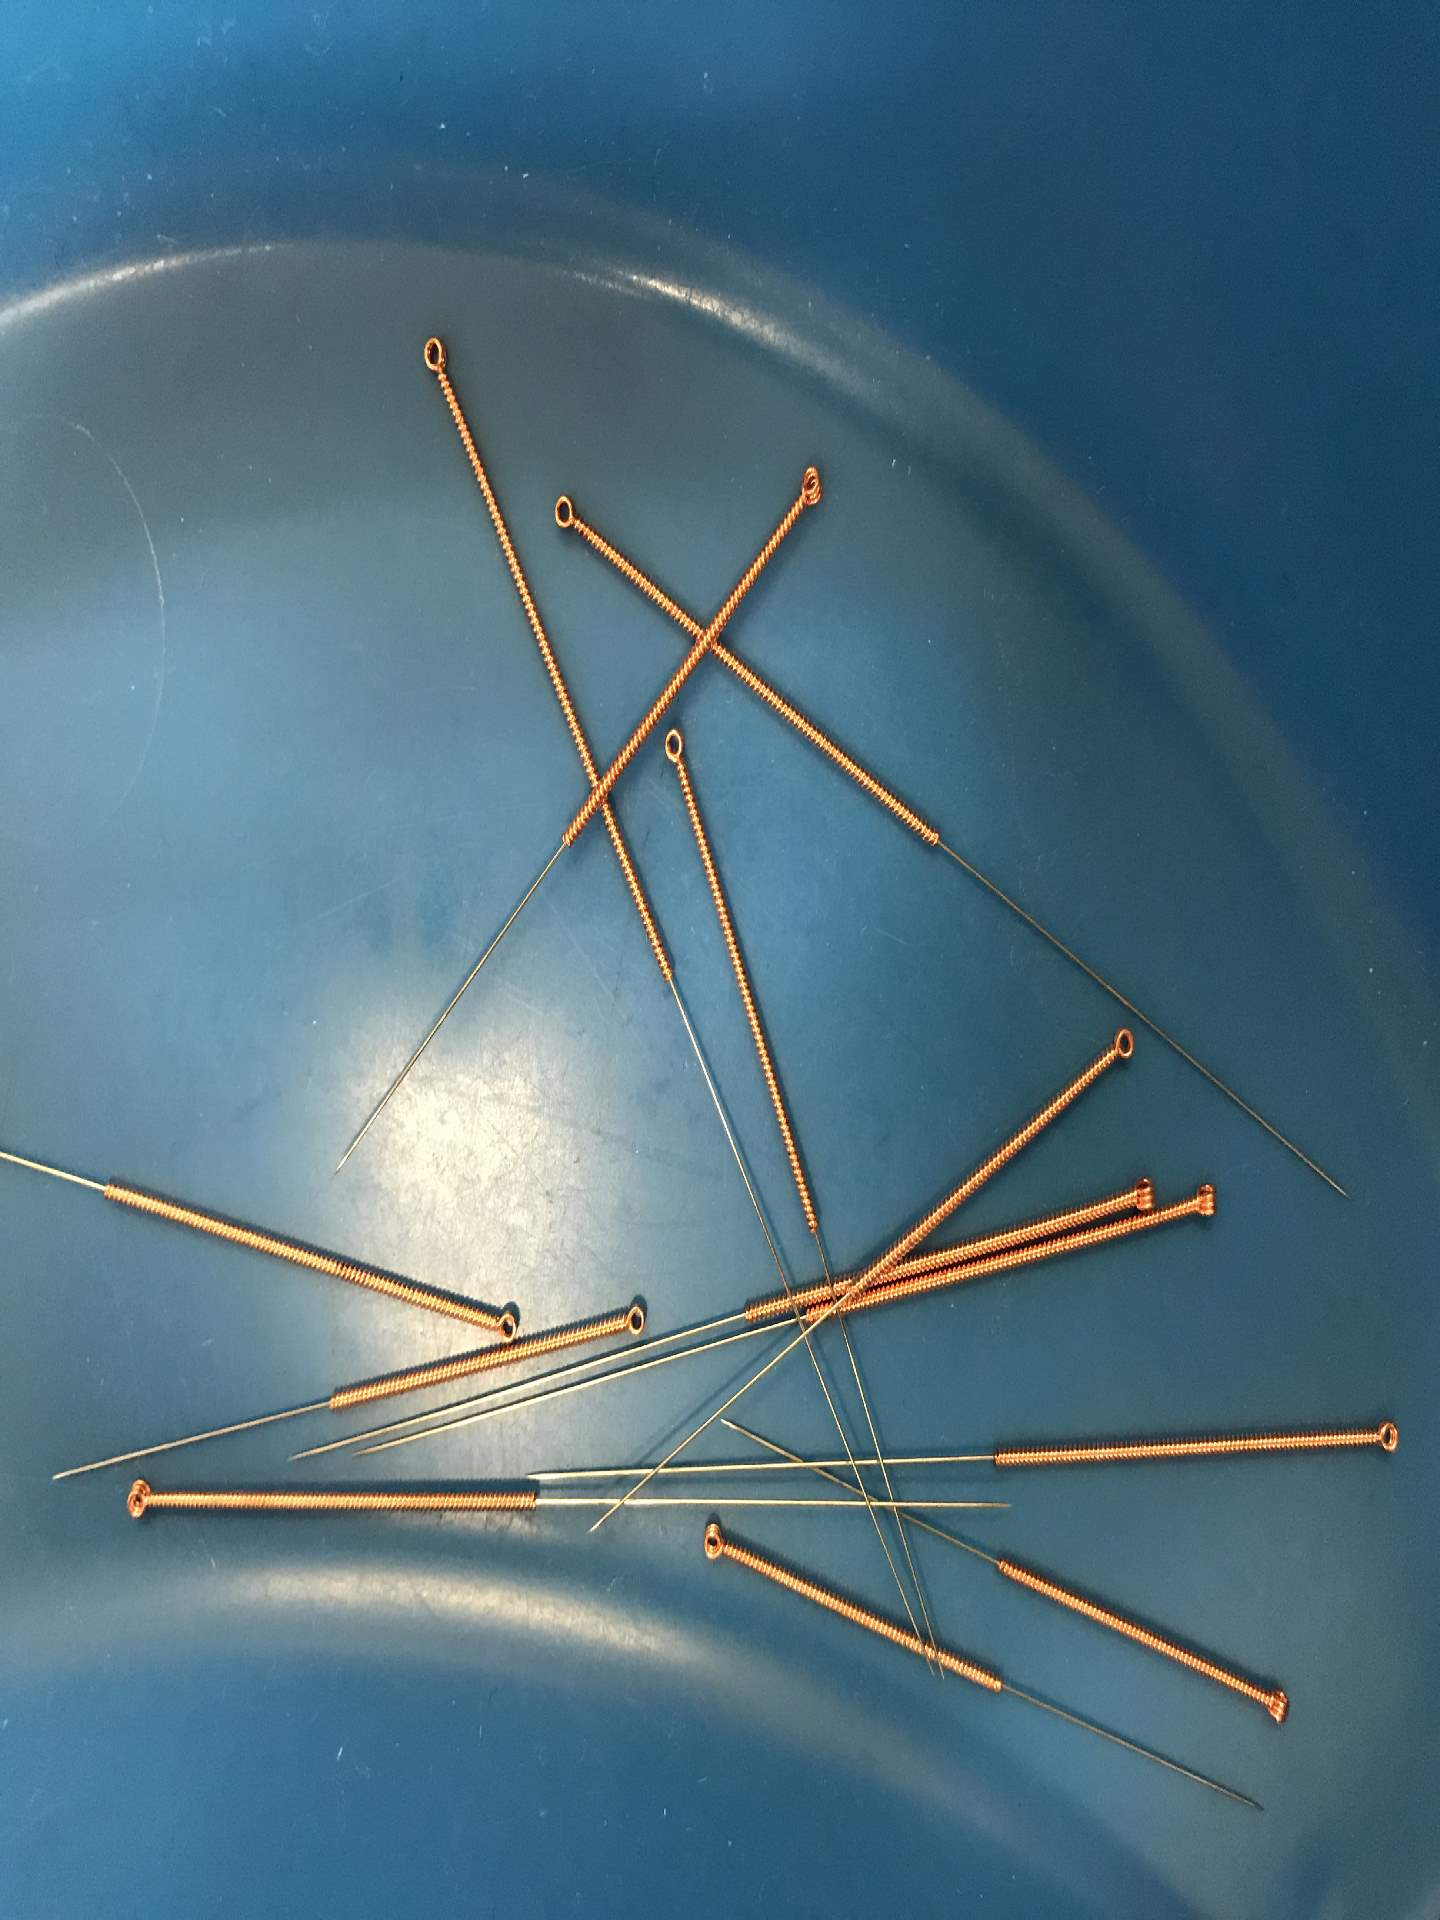needle: (1348, 1411, 1414, 1466), (408, 324, 460, 392), (785, 458, 836, 525), (542, 482, 594, 543), (109, 1473, 163, 1530), (1249, 1674, 1299, 1736), (690, 1509, 737, 1569), (1178, 1173, 1225, 1228), (653, 723, 696, 780), (607, 1291, 653, 1341), (1113, 1167, 1157, 1220), (1097, 1022, 1144, 1070), (483, 1296, 523, 1344)
